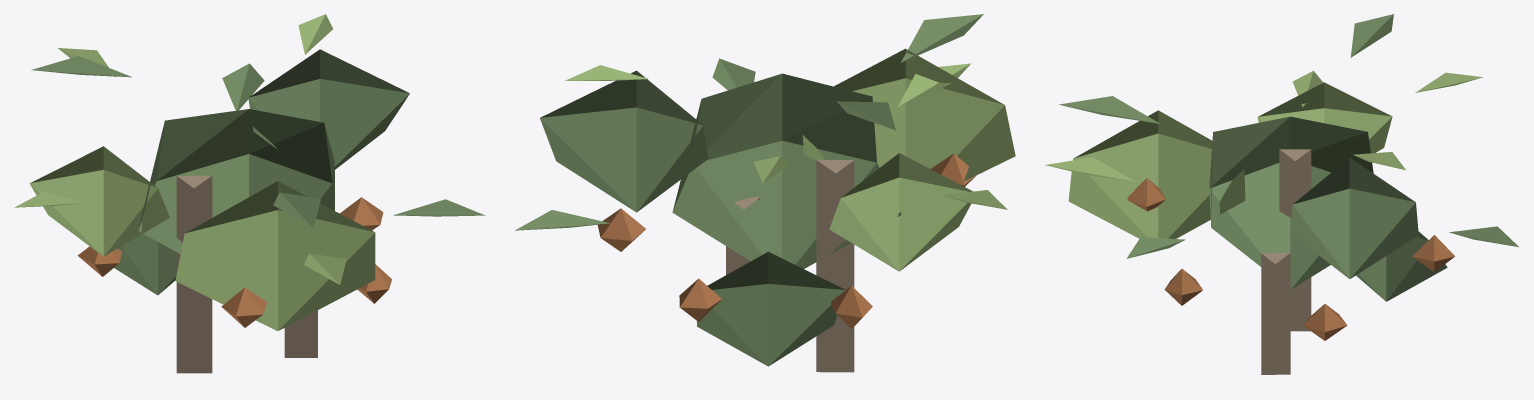
The model's file is nong.da@fruiting__summer.glb.
3 renders of one model, left to right at view 1: azimuth 30°, elevation 25°; view 2: azimuth 150°, elevation 25°; view 3: azimuth 270°, elevation 25°, orthographic. The views are drawn at different scales.
Visible parts, largest first — view 1: nong.da@fruiting__summer; view 2: nong.da@fruiting__summer; view 3: nong.da@fruiting__summer.
Part boxes in pixels (<box>): nong.da@fruiting__summer: <box>14,14,485,373</box>; nong.da@fruiting__summer: <box>515,14,1015,372</box>; nong.da@fruiting__summer: <box>1045,14,1518,374</box>.
Bounding box in the file's own units: 1.41 × 0.966 × 1.51.
